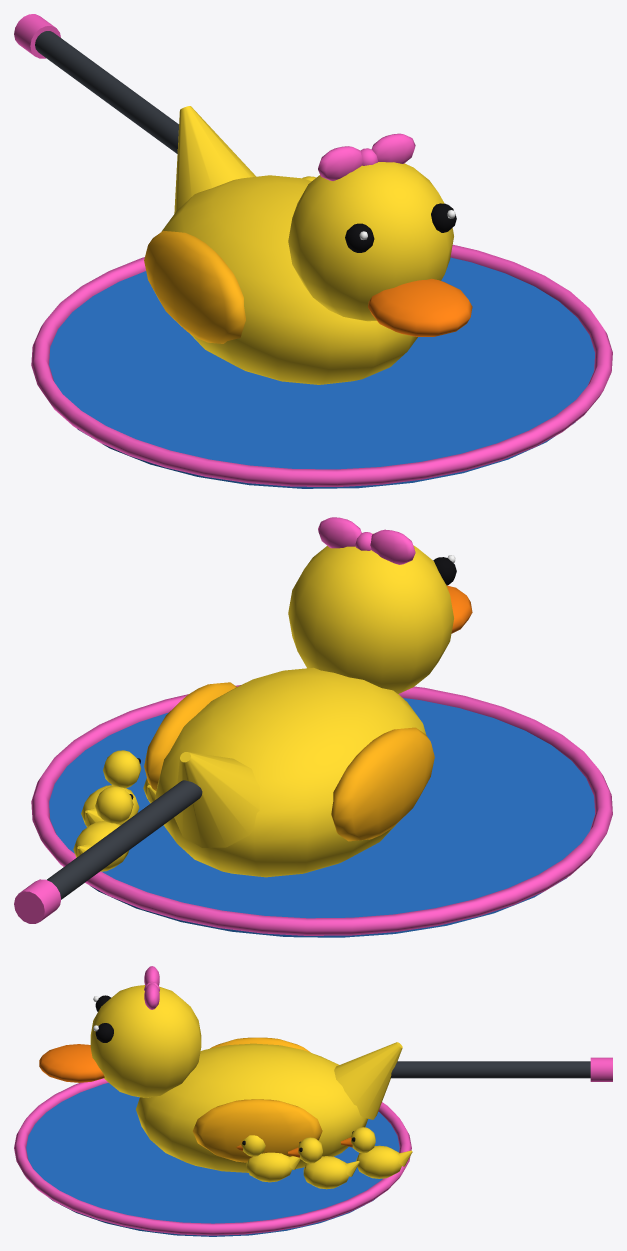
File: mother_duck.obj
3 renders of one model, top to bottom at view 1: azimuth 30°, elevation 25°; view 2: azimuth 150°, elevation 25°; view 3: azimuth 270°, elevation 25°, orthographic. The views are drawn at different scales.
Parts seen in each view (by area): view 1: stand, turret, barrel; view 2: stand, turret, barrel; view 3: turret, stand, barrel.
Part boxes in pixels (x1,y1,x2,y2): stand: [31, 176, 612, 488]; turret: [144, 106, 472, 384]; barrel: [14, 14, 178, 153]; stand: [31, 685, 612, 937]; turret: [144, 517, 472, 877]; barrel: [14, 780, 202, 923]; turret: [39, 966, 402, 1172]; stand: [14, 1078, 412, 1236]; barrel: [390, 1057, 612, 1081].
Bounding box in the file's own units: 1.96 × 1.02 × 2.95.
